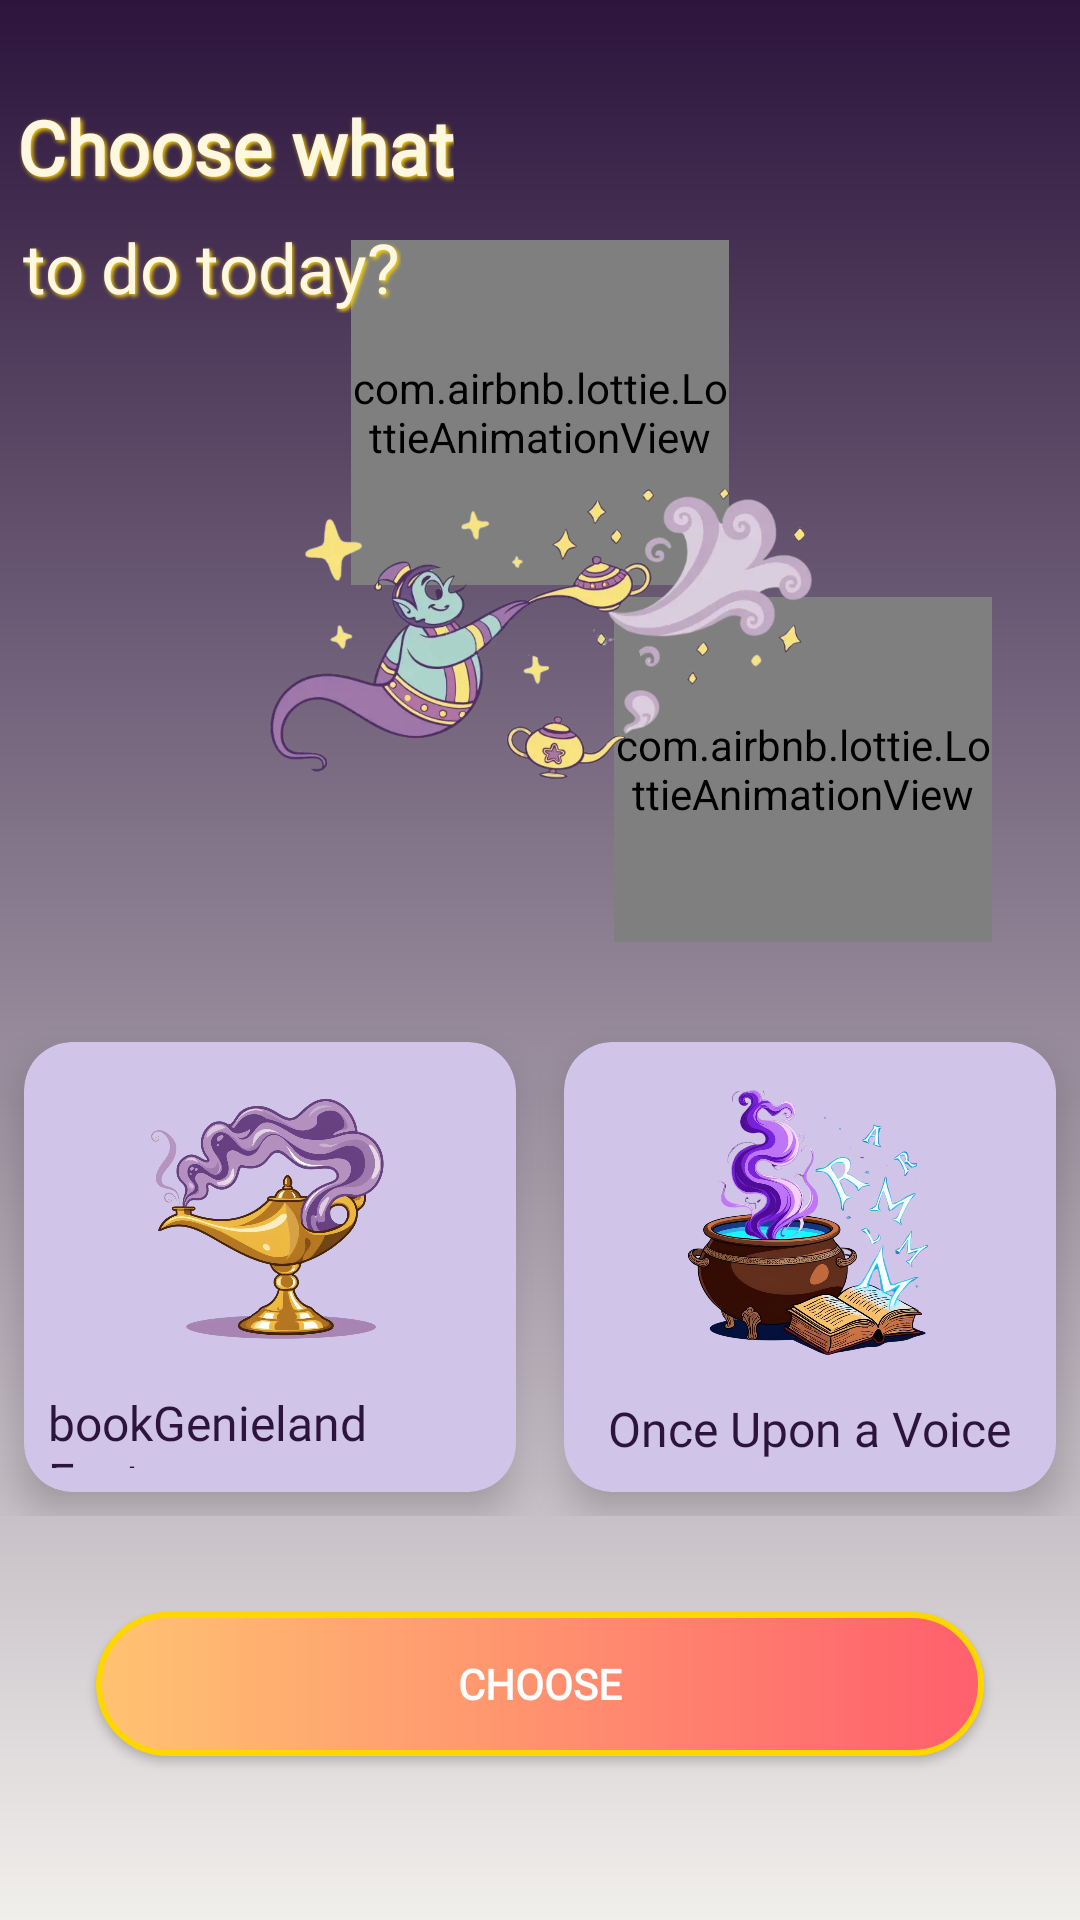

Locate icon controls on the screen. Image size 1080×1920, boxes as (x1, y1, x2, y2).
kazan: (688, 1090, 928, 1355)
